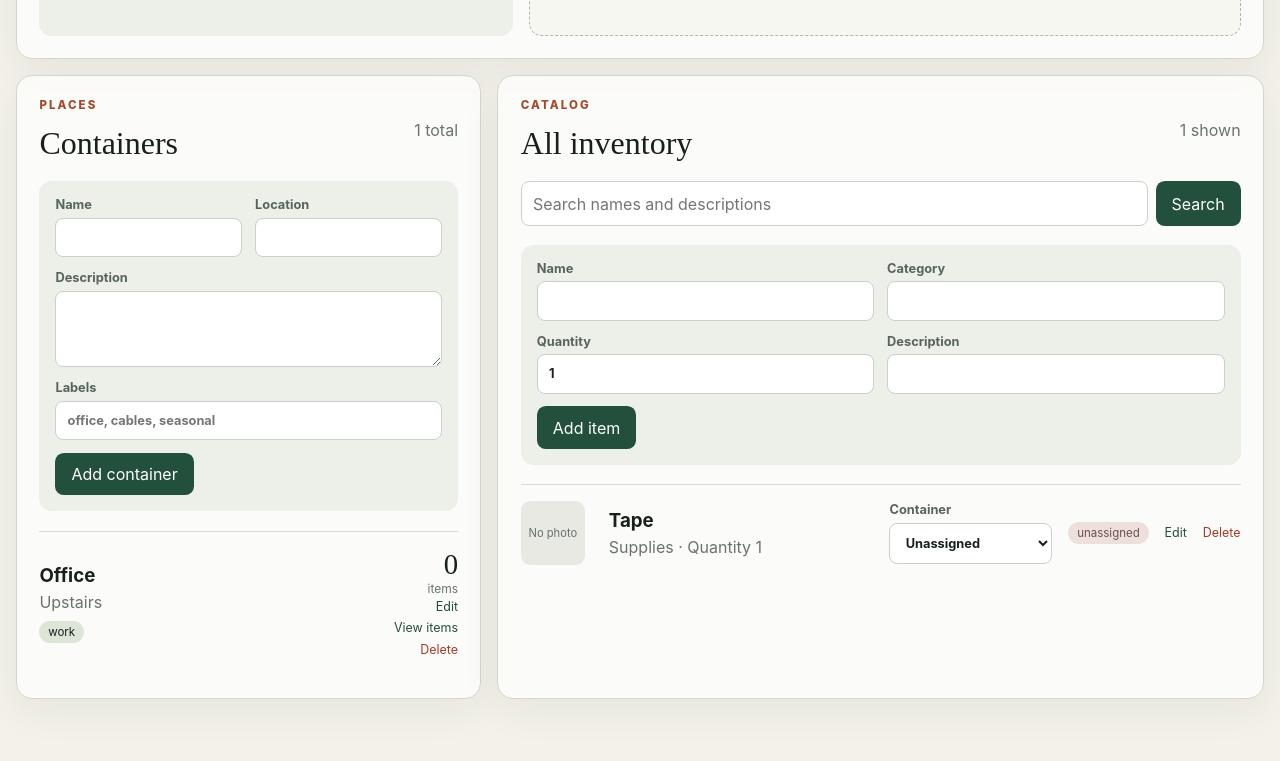
Test case: shows a stale-record message
The width and height of the screenshot is (1280, 761).
(page scrolled)
Expected: the text "Tape" is shown, [609,509,654,532]
Click the button "Edit" in the row of "· Quantity" at (1176, 533), box [1165,522,1187,544]
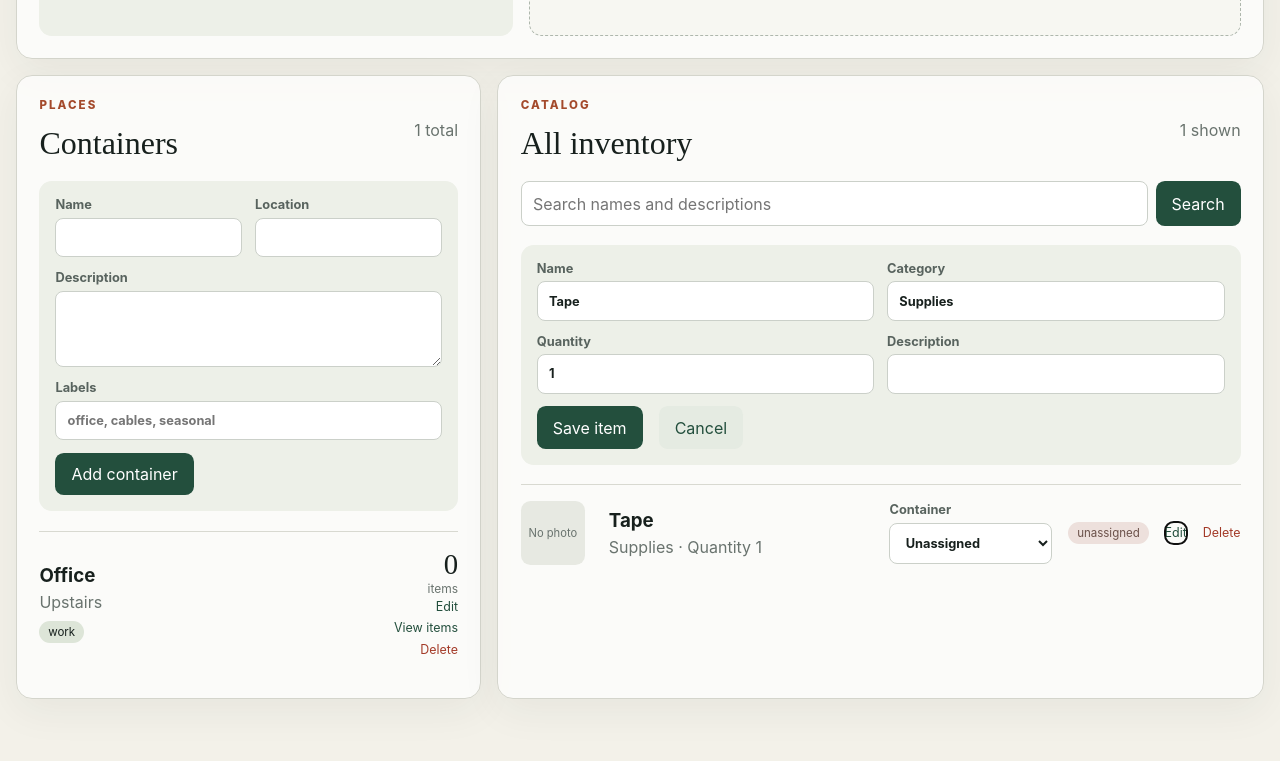
Click the button "Save item" at (590, 428), box [537,406,643,449]
(page scrolled)
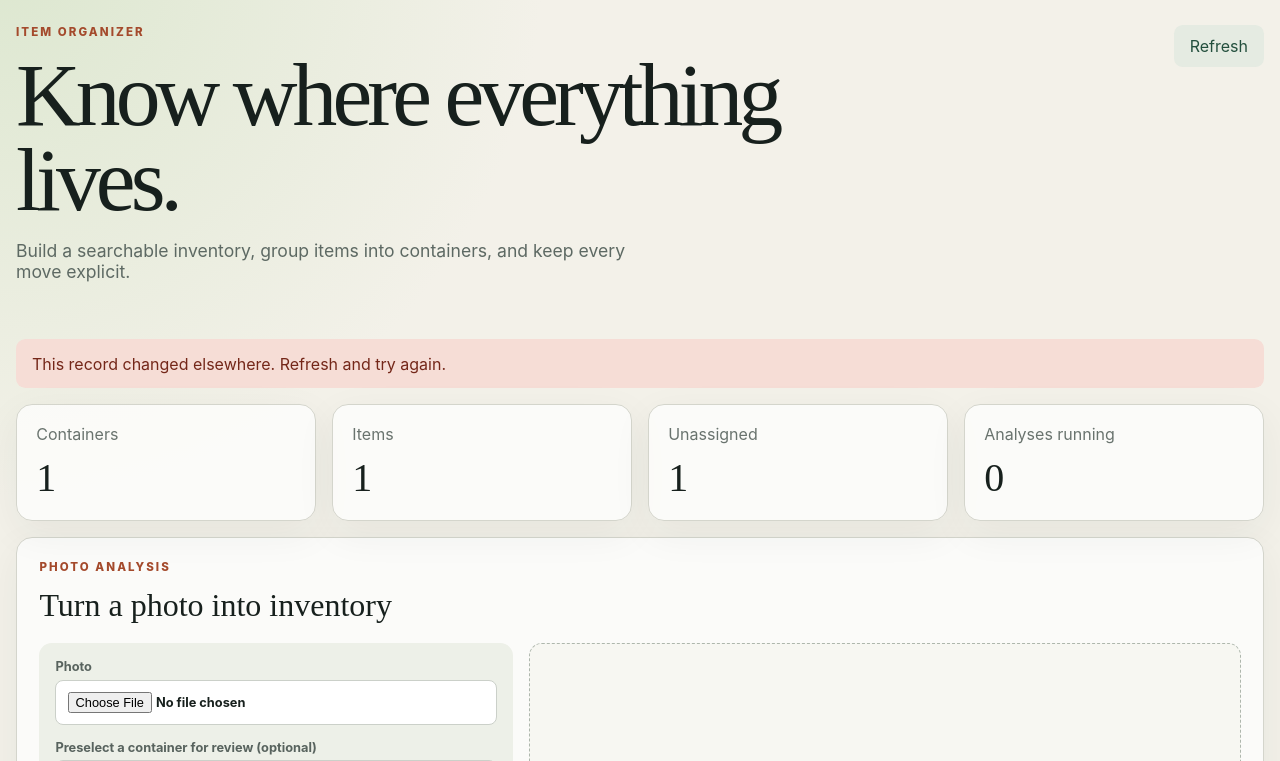
Expected: the message reads "This record changed elsewhere. Refresh and try again.", [32,354,446,374]
